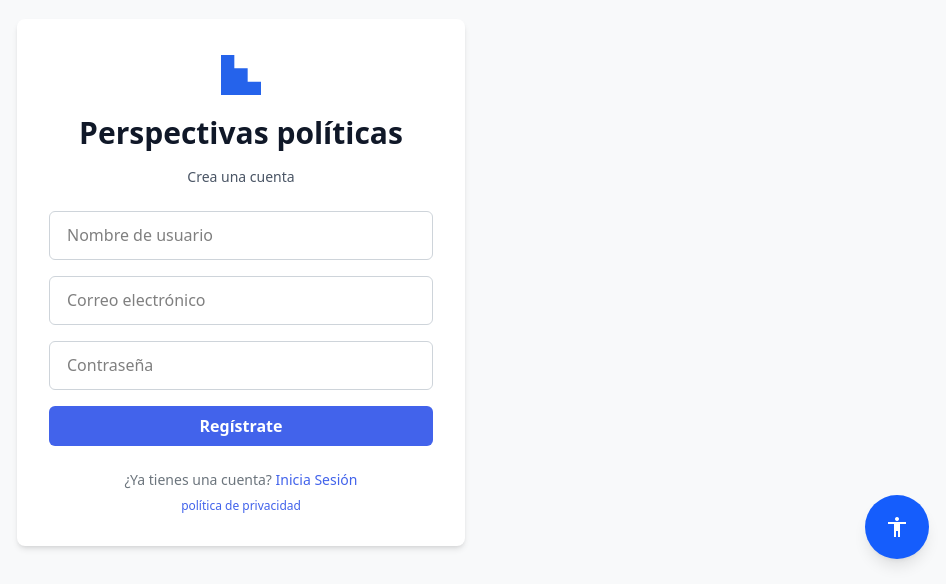
Test: Register Component › shows email validation error for invalid email
The width and height of the screenshot is (946, 584).
Type "testuser" into the field with placeholder "Nombre de usuario" at (241, 235), box [49, 210, 433, 260]
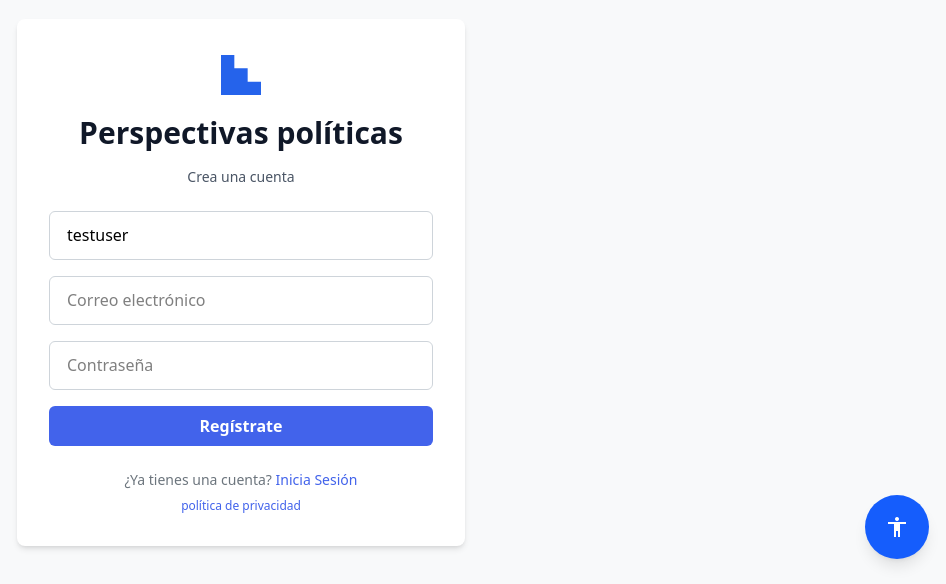
Type "password123" into the password field with placeholder "Contraseña" at (241, 365), box [49, 340, 433, 390]
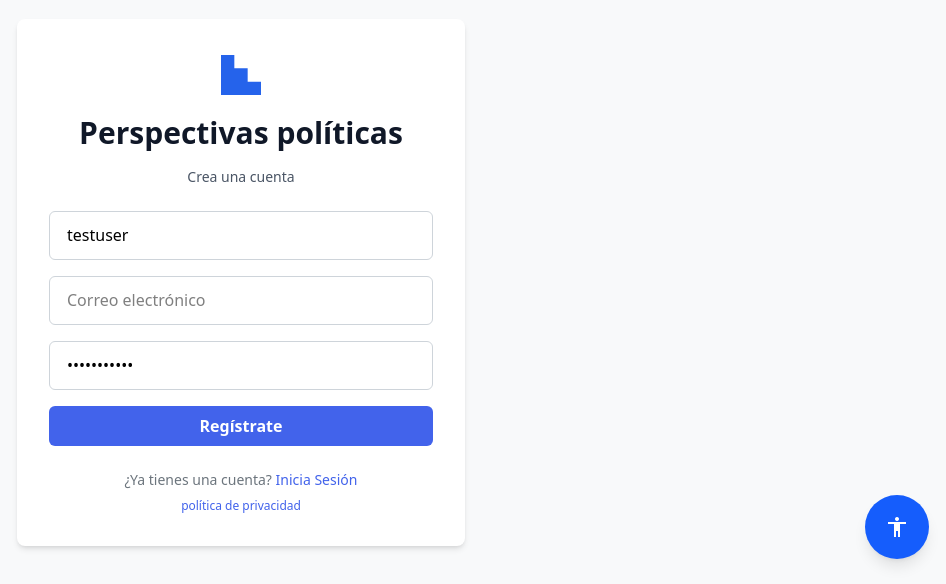
Type "invalid-email" into the field with placeholder "Correo electrónico" at (241, 300), box [49, 276, 433, 324]
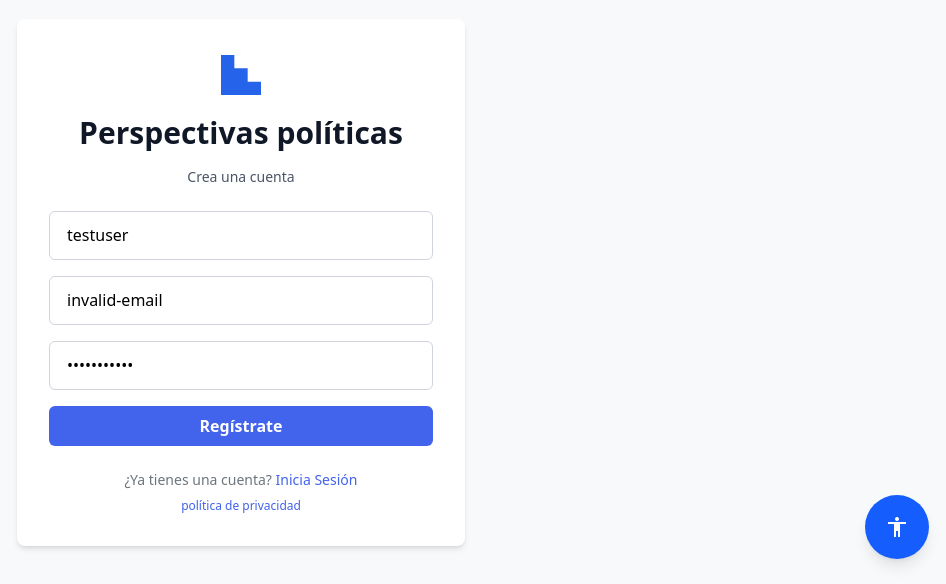
Submit the form "Regístrate", box [49, 210, 433, 446]
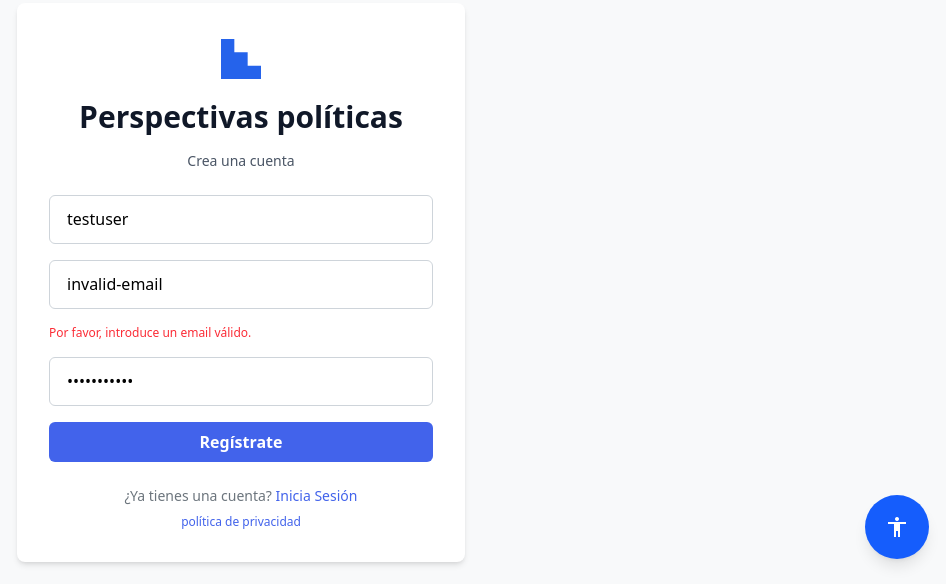
Expected: the text "Por favor, introduce un email válido." is shown, [49, 324, 251, 340]
